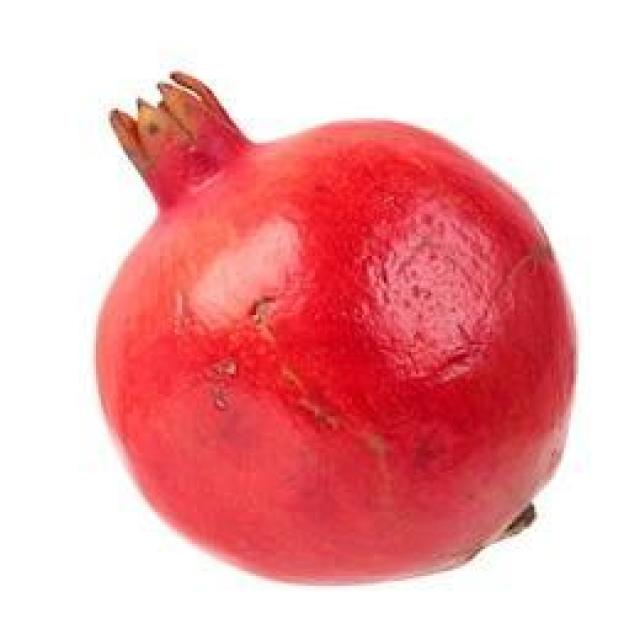Pomegranate: (89, 64, 581, 589)
